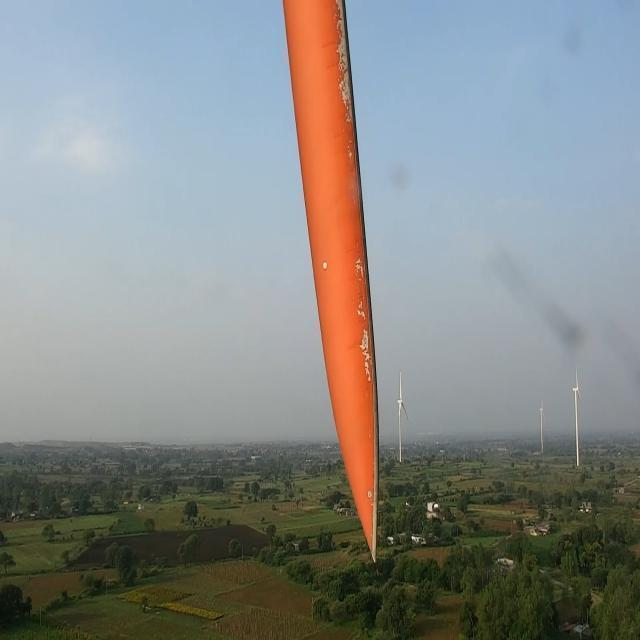PU-tape: (331, 0, 374, 384)
